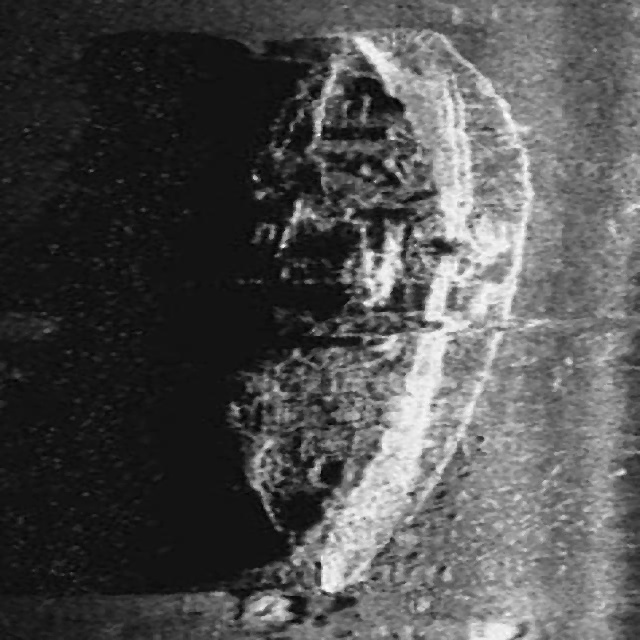Ship: (182, 17, 543, 604)
